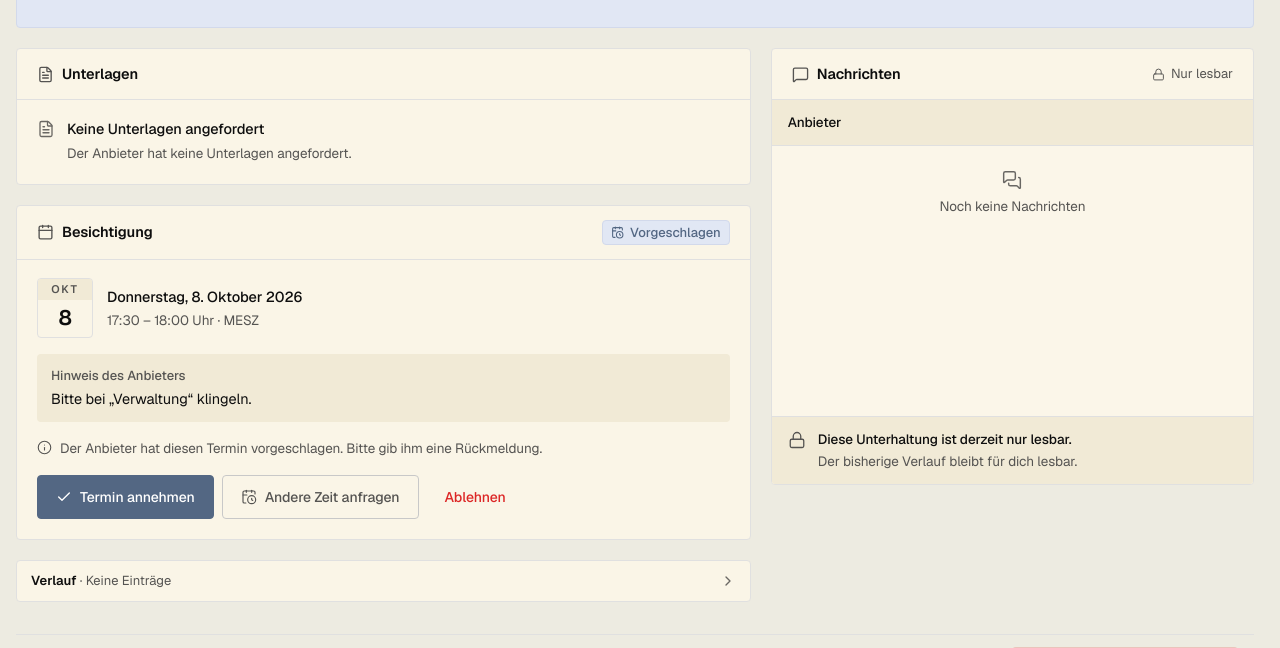
Scenario: ApplicationWorkspace viewing › shows a safe error when a viewing response fails
The width and height of the screenshot is (1280, 648).
(page scrolled)
Click the button "Termin annehmen".
click(125, 497)  # box [37,475,214,519]
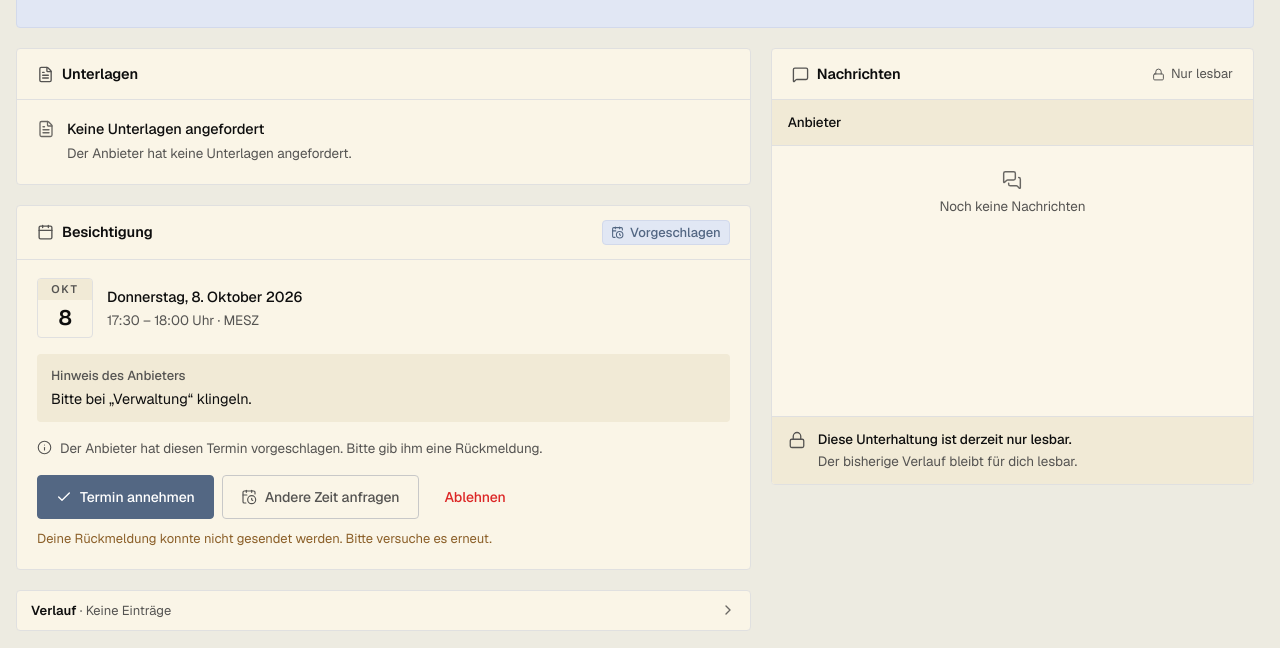
Result: the text "Deine Rückmeldung konnte nicht gesendet werden. Bitte versuche es erneut." is shown at [37,530,492,547]
